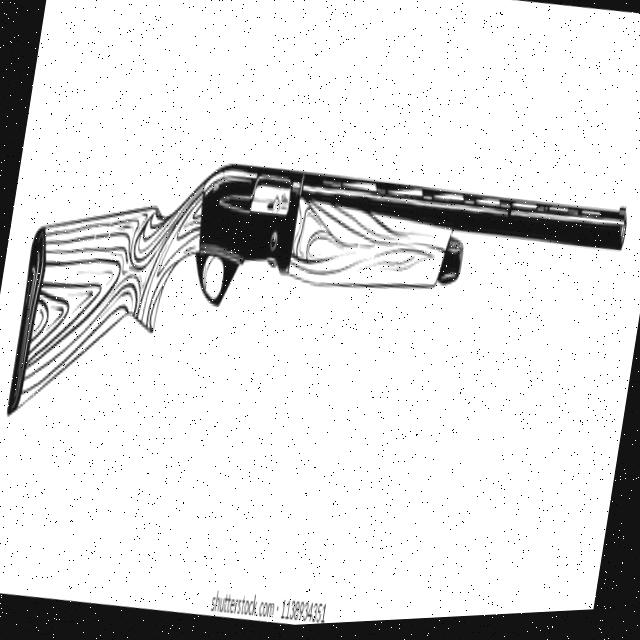firearm: (4, 118, 632, 510)
